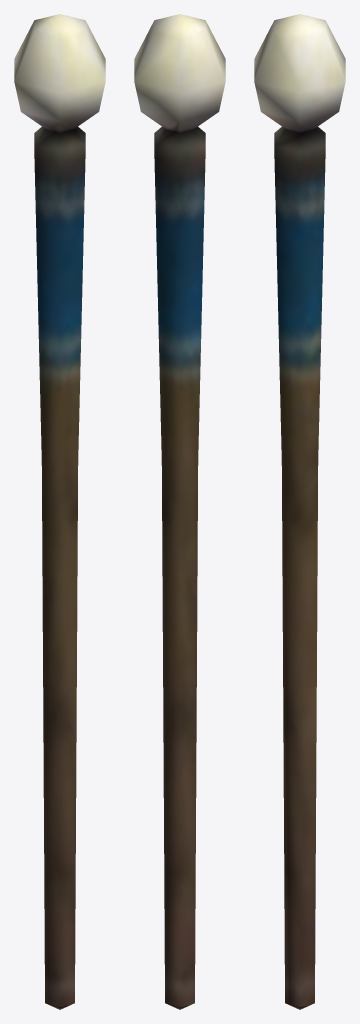
File: commonWand.glb
3 views of the same model, side by side, from view 1: azimuth 30°, elevation 25°; view 2: azimuth 150°, elevation 25°; view 3: azimuth 330°, elevation 25° (orthographic).
Visible parts, largest first — view 1: commonWand; view 2: commonWand; view 3: commonWand.
Part boxes in pixels (x1,y1,x2,y2): commonWand: (14, 14, 105, 1009); commonWand: (134, 14, 225, 1009); commonWand: (254, 14, 345, 1009).
Bounding box in the file's own units: 0.055 × 0.5723 × 0.0477.
Materials: 1 (1 with a texture image).
